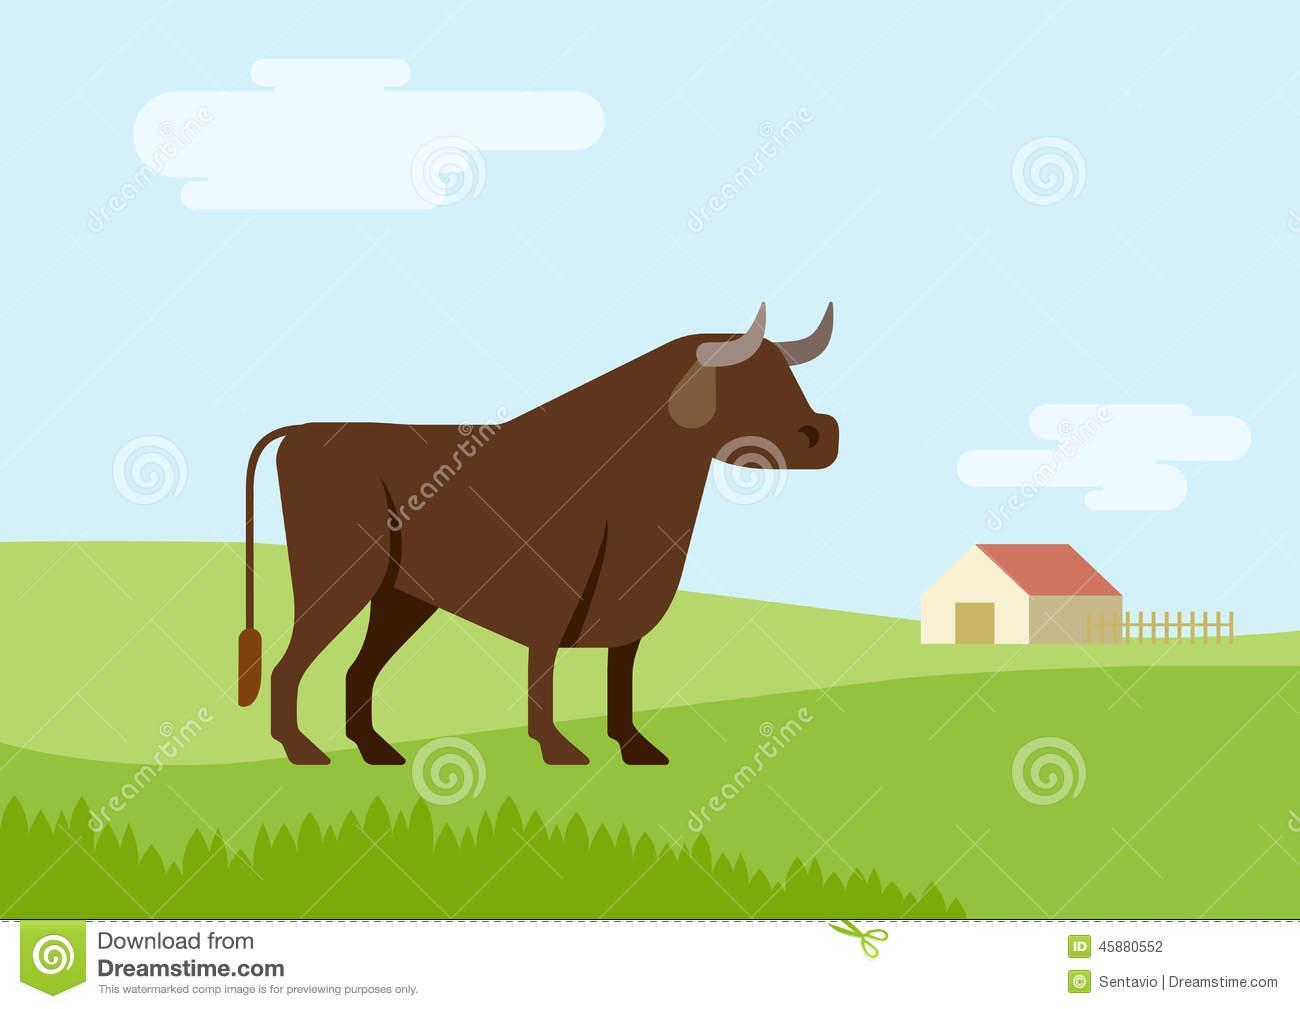cow: (176, 253, 865, 808)
